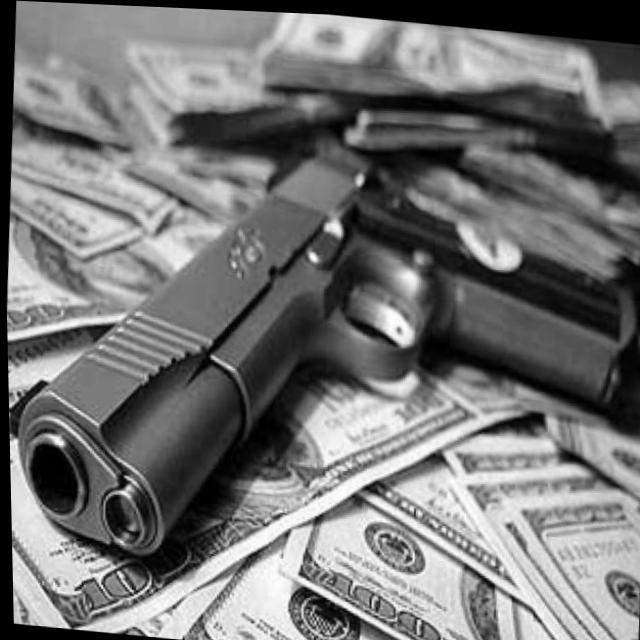weapon: (11, 120, 640, 601)
